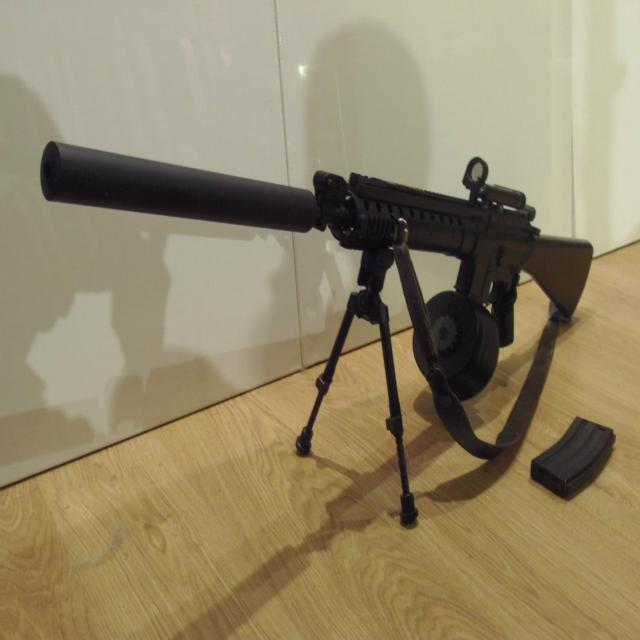firearm: (42, 141, 594, 396)
